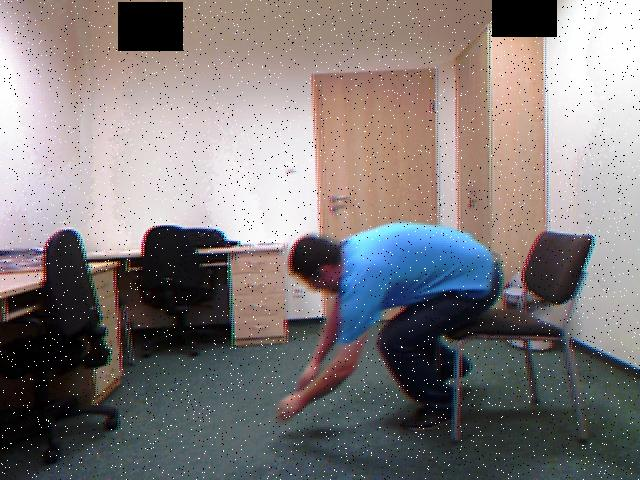near-fall: (234, 206, 506, 441)
